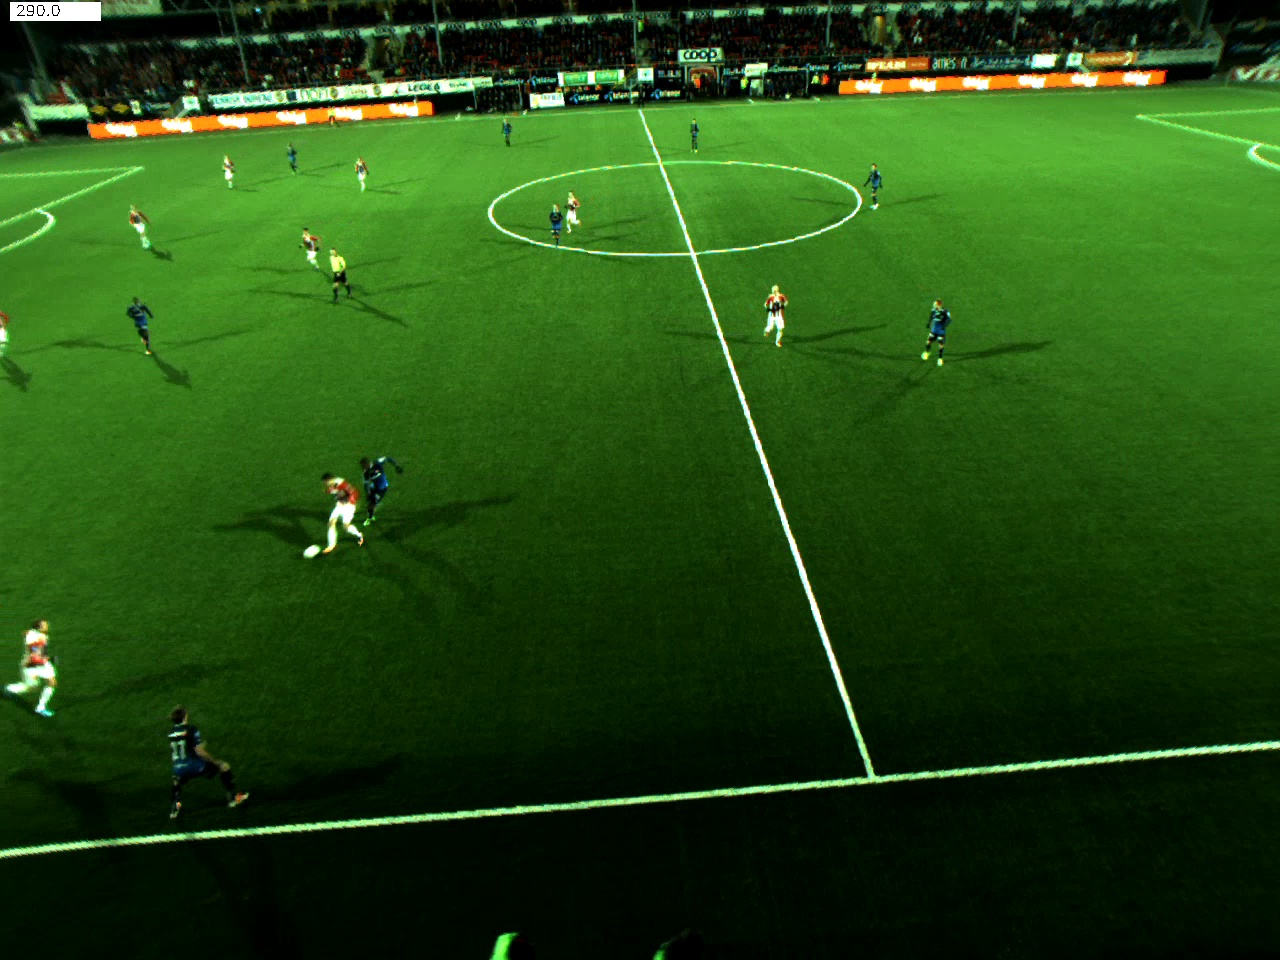blue: (153, 705, 253, 821), (359, 441, 398, 548), (921, 289, 955, 375), (123, 288, 159, 363), (853, 155, 889, 214), (674, 109, 710, 166), (535, 205, 571, 253), (276, 135, 309, 184), (495, 114, 524, 150)
red: (1, 596, 99, 739), (319, 452, 371, 582), (128, 199, 174, 271), (1, 311, 26, 377), (564, 178, 592, 237), (345, 157, 376, 203), (762, 278, 781, 350), (295, 232, 323, 269), (219, 150, 238, 194)
yellow: (323, 239, 376, 319)
